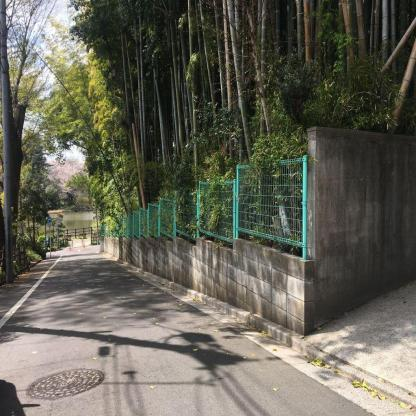Someiyoshino: (36, 153, 90, 194)
